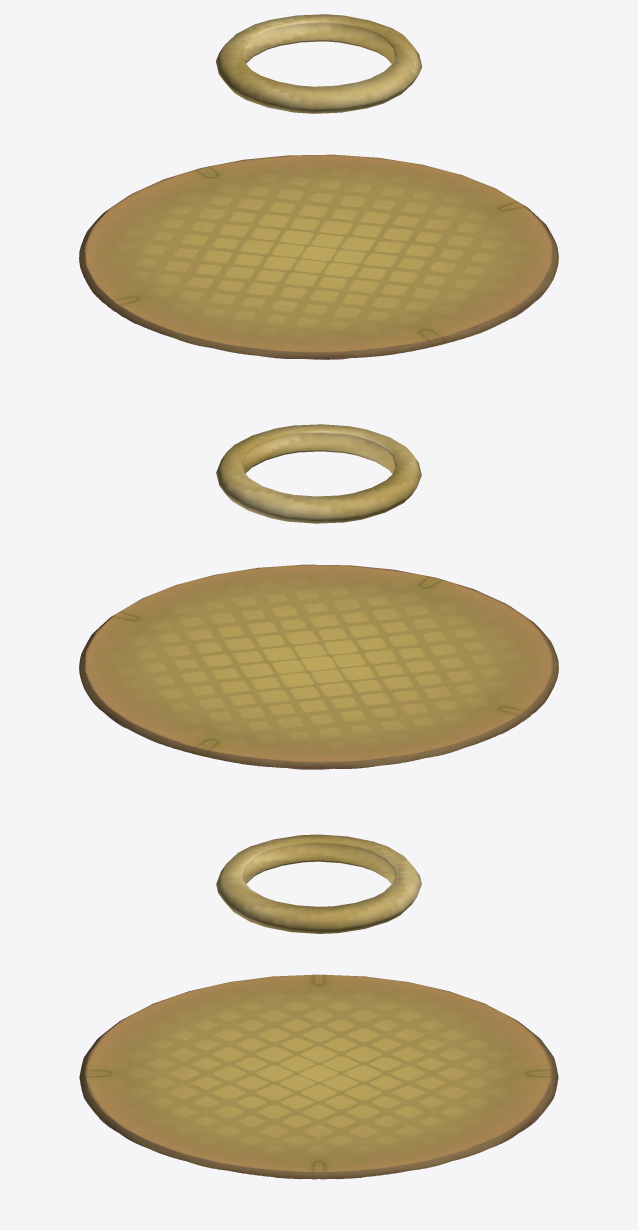
File: pref_TPC_v2_NeutralScoreArea03_yellow_idle_lv1.fbx
3 views of the same model, one above another, from view 1: azimuth 30°, elevation 25°; view 2: azimuth 150°, elevation 25°; view 3: azimuth 270°, elevation 25° (orthographic).
Visible parts, largest first — view 1: sm_prop_platform06a_lv1, sm_prop_platform06b_lv1; view 2: sm_prop_platform06a_lv1, sm_prop_platform06b_lv1; view 3: sm_prop_platform06a_lv1, sm_prop_platform06b_lv1.
Boxes of the visible parts, box(x1,y1,x2,y2) form: sm_prop_platform06a_lv1: box(79, 154, 558, 359); sm_prop_platform06b_lv1: box(215, 14, 421, 113); sm_prop_platform06a_lv1: box(79, 564, 558, 769); sm_prop_platform06b_lv1: box(216, 424, 421, 523); sm_prop_platform06a_lv1: box(79, 974, 558, 1179); sm_prop_platform06b_lv1: box(216, 834, 421, 933).
Bounding box in the file's own units: 7.46 × 2.87 × 7.46.
Materials: 1 (1 with a texture image).
